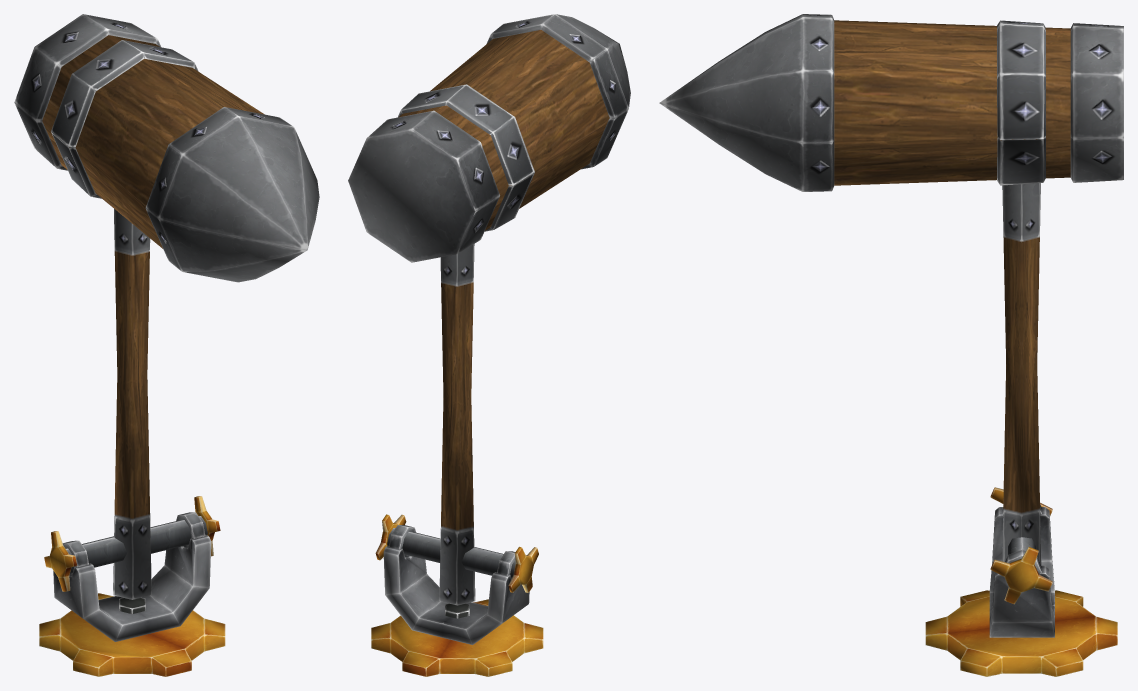
Rendered from Hammer_L3.FBX.
3 renders of one model, left to right at view 1: azimuth 30°, elevation 25°; view 2: azimuth 150°, elevation 25°; view 3: azimuth 270°, elevation 25°, orthographic. The views are drawn at different scales.
Visible parts, largest first — view 1: Hammer_Hammer_L3, Hammer_Hub_L3, Hammer_Base_L3; view 2: Hammer_Hammer_L3, Hammer_Hub_L3, Hammer_Base_L3; view 3: Hammer_Hammer_L3, Hammer_Base_L3, Hammer_Hub_L3.
Part boxes in pixels (<box>): Hammer_Hammer_L3: <box>14,14,319,599</box>; Hammer_Hub_L3: <box>53,512,211,641</box>; Hammer_Base_L3: <box>39,593,225,676</box>; Hammer_Hammer_L3: <box>348,14,630,605</box>; Hammer_Hub_L3: <box>383,525,529,644</box>; Hammer_Base_L3: <box>371,599,543,676</box>; Hammer_Hammer_L3: <box>659,14,1123,604</box>; Hammer_Base_L3: <box>925,590,1117,676</box>; Hammer_Hub_L3: <box>989,504,1054,637</box>.
Size of the model in its own units: 2.31 by 5.66 by 8.4.
